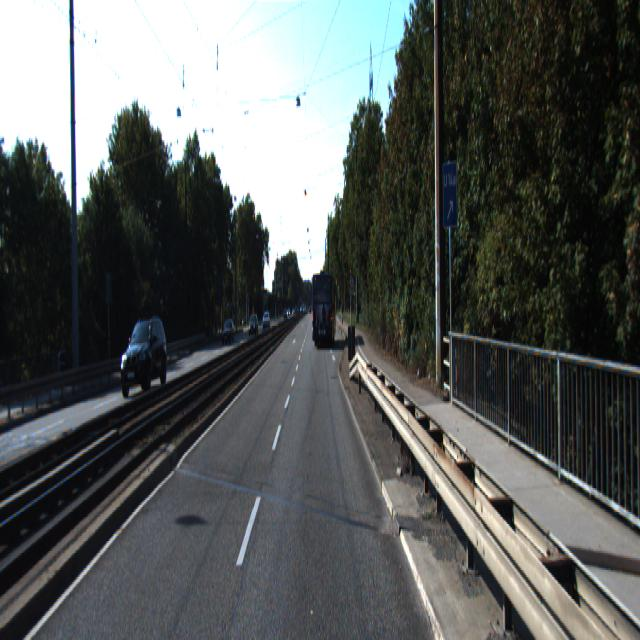Car: (118, 314, 168, 398)
DontCare: (222, 310, 271, 344), (282, 302, 299, 322)
Truck: (312, 272, 337, 348)
